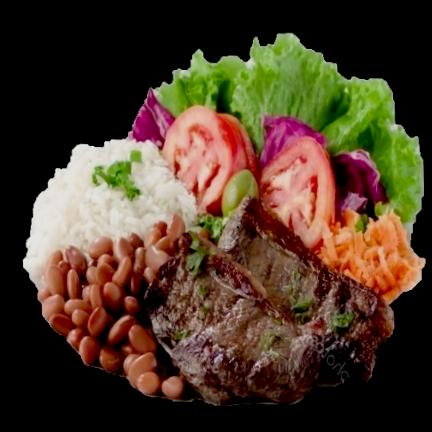beans: (39, 215, 185, 399)
carrot: (317, 209, 426, 303)
meat: (145, 198, 393, 404)
rice: (24, 140, 198, 288)
salad: (157, 34, 424, 222)
tomato: (163, 106, 335, 249)
